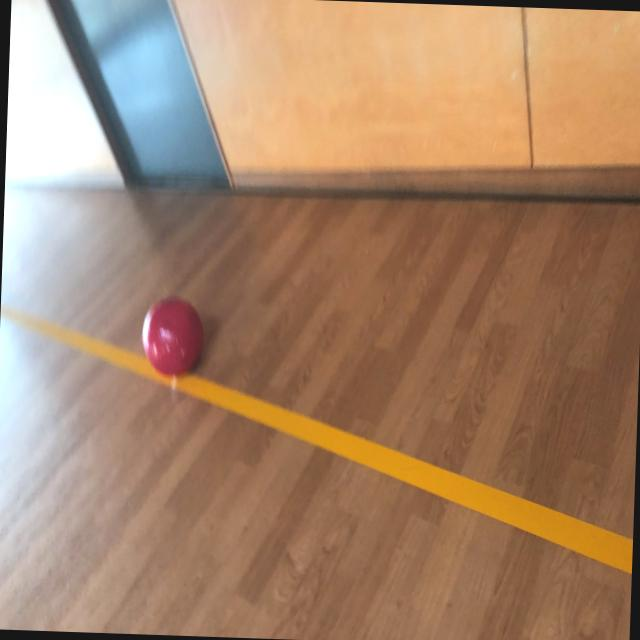red_ball: (140, 295, 203, 378)
